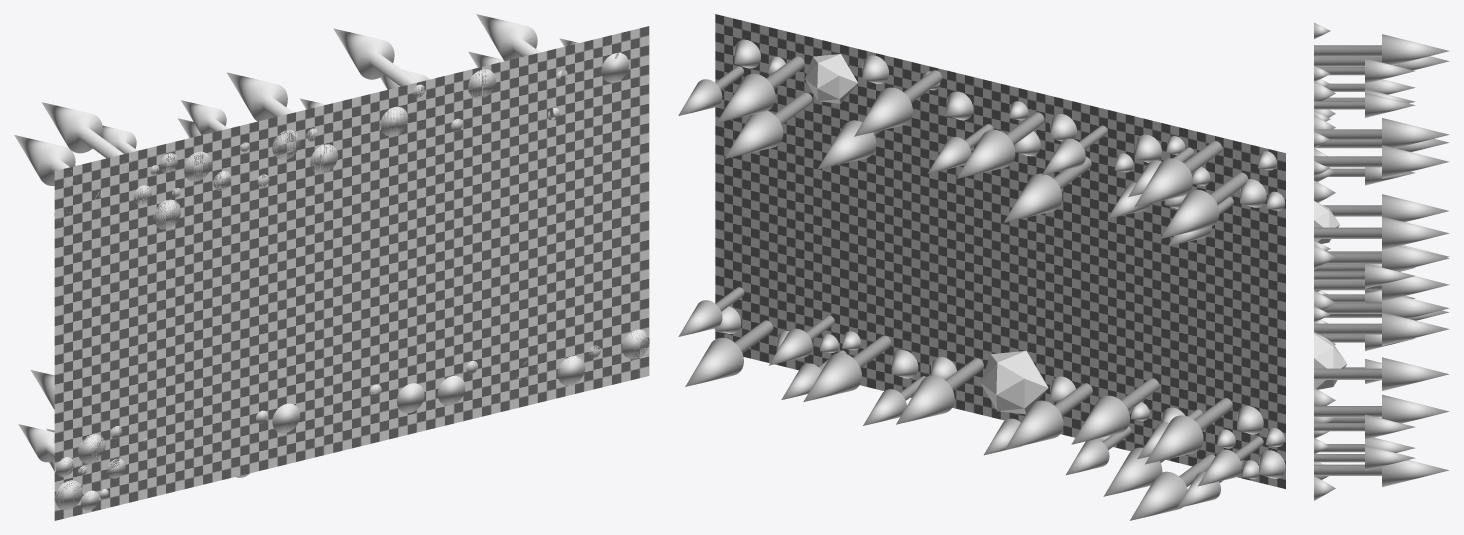
The model's file is forest3.dae.
3 views of the same model, side by side, from view 1: azimuth 30°, elevation 25°; view 2: azimuth 150°, elevation 25°; view 3: azimuth 270°, elevation 25° (orthographic). The views are drawn at different scales.
Parts seen in each view (by area): view 1: Plane.002, Cone.064, Cone.179, Cone.074, Cone.062, Cone.173, Cone.191, Cone.087, Cone.194; view 2: Plane.002, Icosphere, Cone.086, Cone.073, Cone.190, Cone.179, Cone.076, Cone.062, Cone.064, Cone.074, Cone.056, Cone.051 (+17 smaller); view 3: Cone.062, Cone.076, Cone.073, Cone.179, Cone.064, Cone.056, Cone.074, Cone.051, Cone.197, Cone.193, Cone.190, Cone.189 (+27 smaller).
Part boxes in pixels (left/top/right/bottom): Plane.002: left=54, top=26, right=649, bottom=520; Cone.064: left=333, top=28, right=424, bottom=97; Cone.179: left=41, top=102, right=131, bottom=169; Cone.074: left=226, top=72, right=317, bottom=141; Cone.062: left=476, top=14, right=567, bottom=83; Cone.173: left=14, top=135, right=105, bottom=202; Cone.191: left=181, top=100, right=249, bottom=151; Cone.087: left=18, top=424, right=86, bottom=475; Cone.194: left=101, top=125, right=159, bottom=174; Plane.002: left=715, top=14, right=1285, bottom=488; Icosphere: left=980, top=350, right=1048, bottom=414; Cone.086: left=1145, top=398, right=1232, bottom=464; Cone.073: left=896, top=358, right=983, bottom=424; Cone.190: left=1071, top=378, right=1159, bottom=444; Cone.179: left=1134, top=141, right=1222, bottom=207; Cone.076: left=1005, top=383, right=1092, bottom=449; Cone.062: left=717, top=56, right=804, bottom=122; Cone.064: left=854, top=70, right=941, bottom=136; Cone.074: left=956, top=112, right=1044, bottom=178; Cone.056: left=803, top=335, right=891, bottom=401; Cone.051: left=685, top=320, right=773, bottom=386; Cone.062: left=1314, top=216, right=1449, bottom=250; Cone.076: left=1314, top=312, right=1449, bottom=345; Cone.073: left=1314, top=357, right=1448, bottom=390; Cone.179: left=1314, top=34, right=1449, bottom=65; Cone.064: left=1314, top=145, right=1449, bottom=178; Cone.056: left=1314, top=394, right=1449, bottom=423; Cone.074: left=1314, top=118, right=1449, bottom=148; Cone.051: left=1314, top=460, right=1448, bottom=487; Cone.197: left=1323, top=194, right=1448, bottom=221; Cone.193: left=1325, top=246, right=1449, bottom=271; Cone.190: left=1314, top=276, right=1449, bottom=301; Cone.189: left=1323, top=296, right=1449, bottom=318.
Bounding box in the file's own units: 64.07 × 16 × 37.96.
